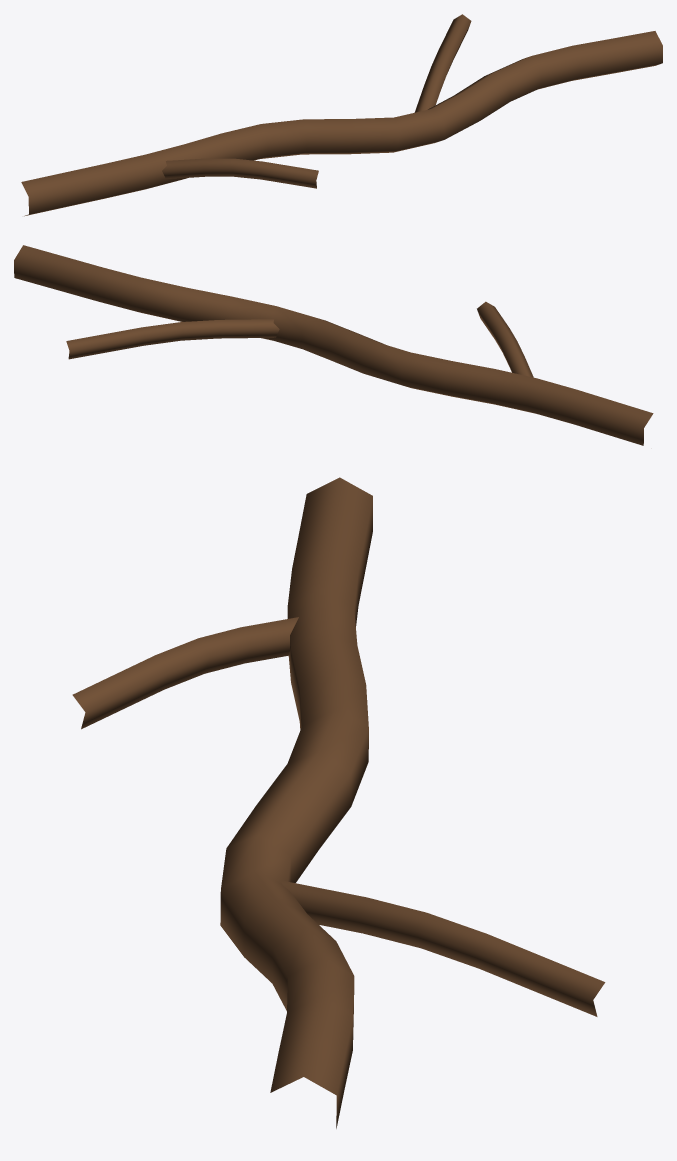
File: twig.glb
3 views of the same model, one above another, from view 1: azimuth 30°, elevation 25°; view 2: azimuth 150°, elevation 25°; view 3: azimuth 270°, elevation 25° (orthographic). The views are drawn at different scales.
Visible parts, largest first — view 1: twig; view 2: twig; view 3: twig.
Boxes of the visible parts, x1,y1,x2,y2 form: twig: (21,14,662,216); twig: (14,245,653,445); twig: (72,477,605,1128).
Bounding box in the file's own units: 30.09 × 2.21 × 11.59.
